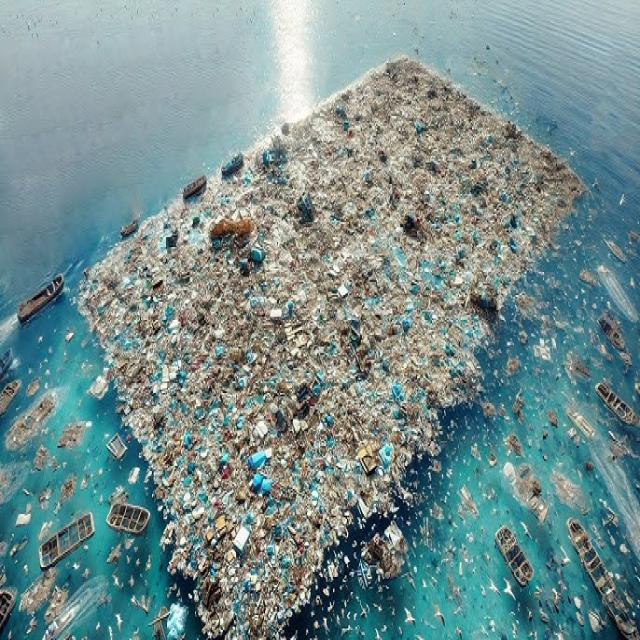plastic watse: (79, 59, 582, 636)
